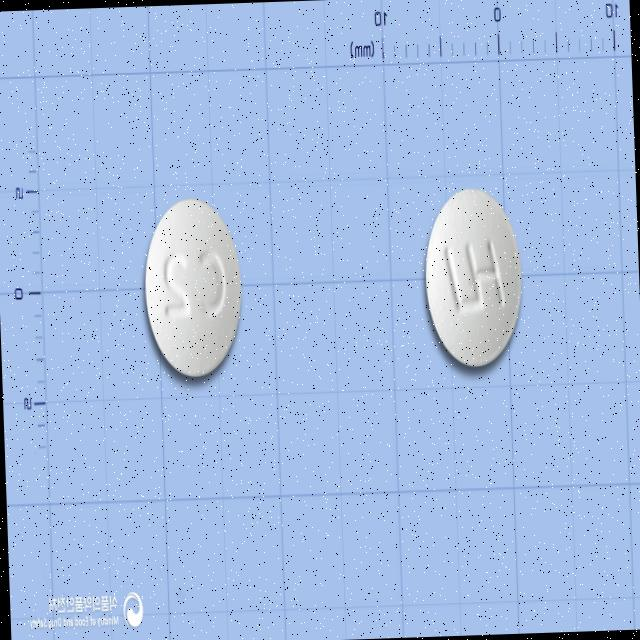Huloxacin: (420, 185, 524, 369), (142, 196, 245, 378)
